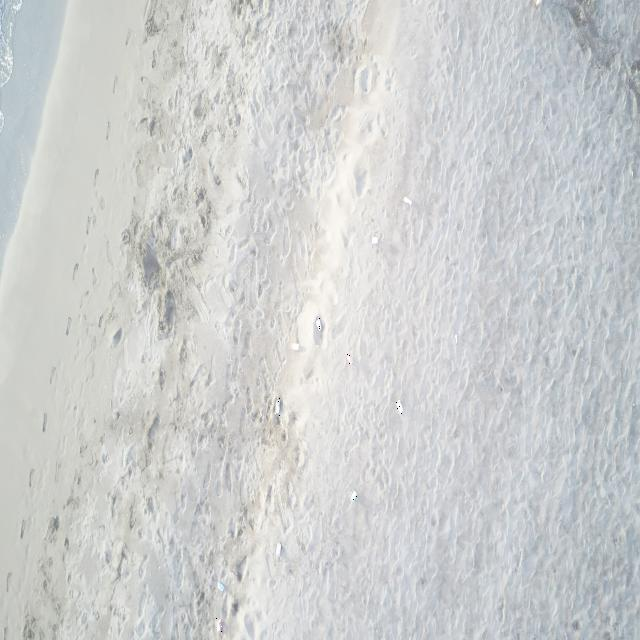tin-and-aluminum-cans: (396, 400, 403, 414), (217, 580, 225, 592), (276, 542, 282, 558), (216, 618, 222, 634), (350, 490, 357, 503), (371, 234, 378, 247), (275, 398, 280, 416), (316, 318, 322, 332), (346, 354, 353, 366), (404, 196, 412, 206), (292, 342, 300, 351)
